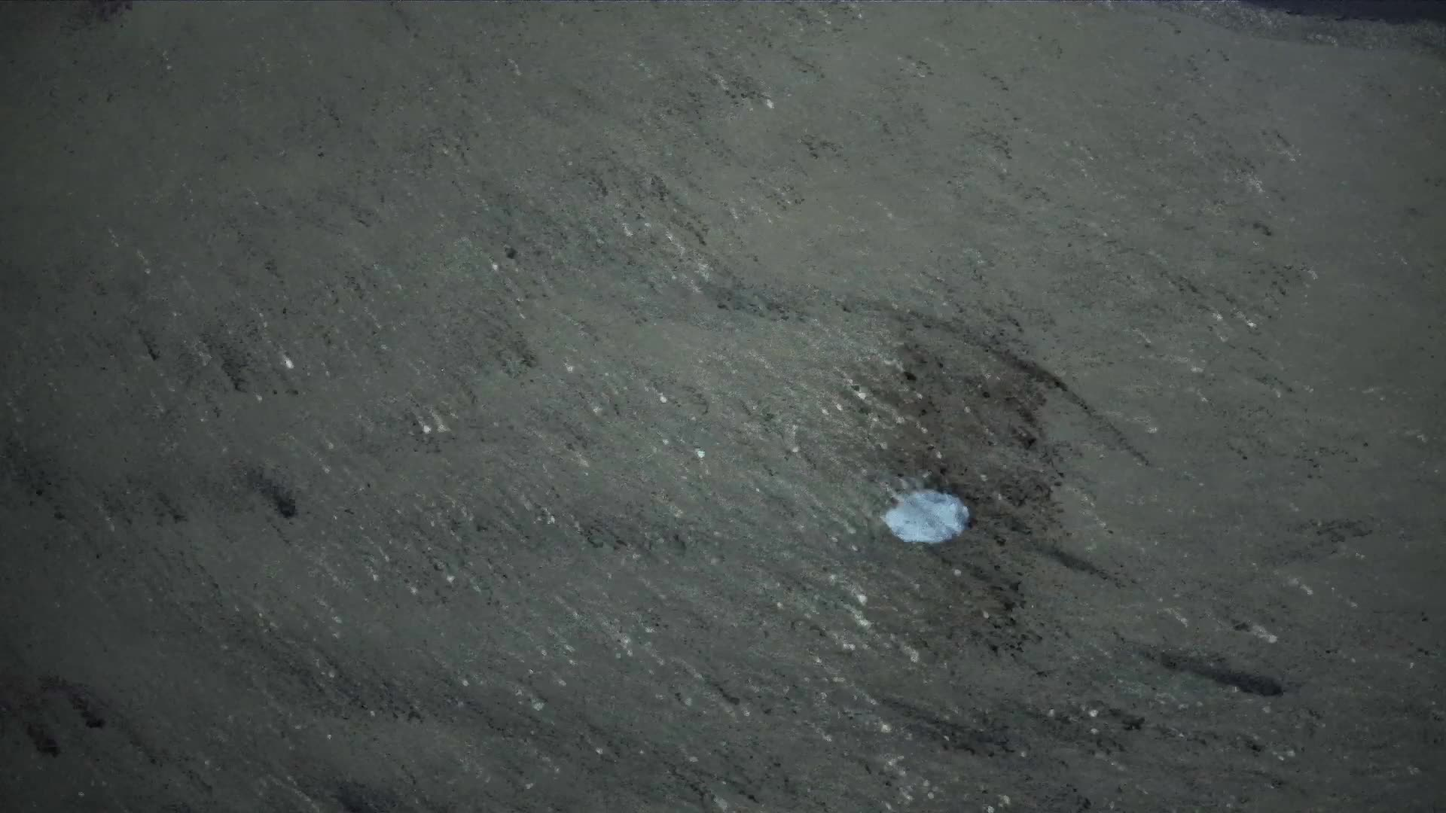Target: (873, 487, 974, 548)
